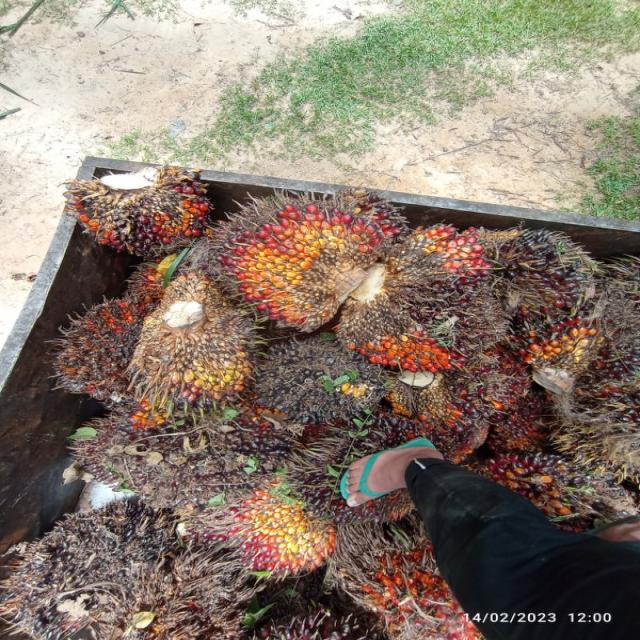fraksi 00: (56, 390, 301, 517), (0, 493, 196, 625), (488, 215, 604, 360), (252, 324, 397, 436)
fraksi 1: (185, 183, 396, 324), (57, 154, 220, 266)
fraksi 3: (350, 217, 511, 383), (186, 468, 342, 606)
fraksi 4: (30, 280, 150, 384)
